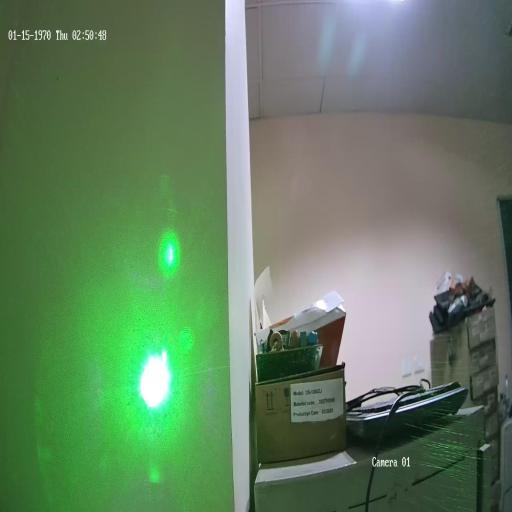laser: (128, 332, 186, 418)
